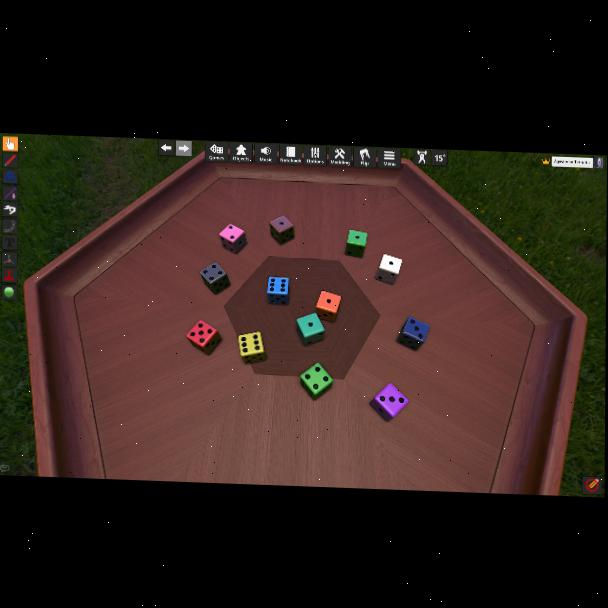d6: (369, 383, 407, 422), (186, 319, 221, 356), (300, 362, 333, 398), (397, 316, 429, 352), (199, 262, 229, 296), (295, 313, 324, 347), (237, 331, 266, 364), (219, 224, 246, 256), (375, 253, 401, 285), (315, 290, 340, 322), (269, 215, 293, 246), (266, 276, 290, 306), (345, 230, 366, 259)
